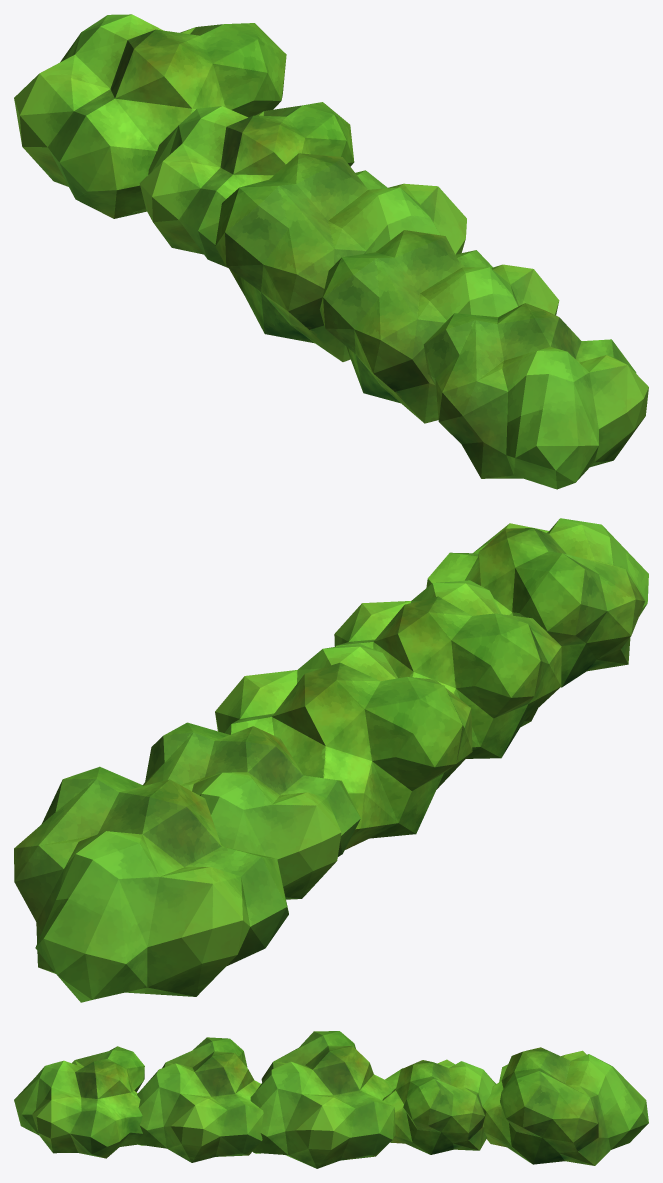
Rendered from Arbustos_Array.fbx.
3 views of the same model, one above another, from view 1: azimuth 30°, elevation 25°; view 2: azimuth 150°, elevation 25°; view 3: azimuth 270°, elevation 25° (orthographic). The views are drawn at different scales.
Parts seen in each view (by area): view 1: Arbusto; view 2: Arbusto; view 3: Arbusto.
Part boxes in pixels (x1=…): Arbusto: x1=14, y1=14, x2=648, y2=489; Arbusto: x1=14, y1=518, x2=648, y2=1002; Arbusto: x1=14, y1=1031, x2=648, y2=1168.
Size of the model in its own units: 515 by 330 by 2011.
1 material, 1 textured.
